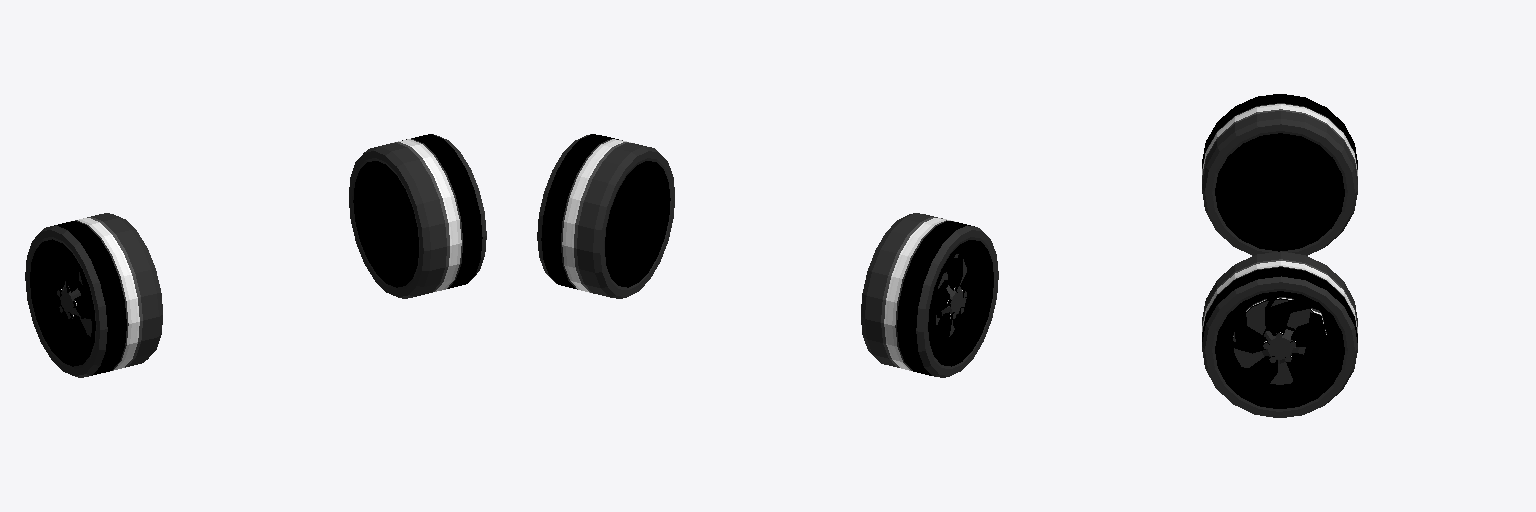
The picture shows the model from 3 angles: view 1: azimuth 30°, elevation 25°; view 2: azimuth 150°, elevation 25°; view 3: azimuth 270°, elevation 25°; orthographic projection.
Visible parts, largest first — view 1: Wheels; view 2: Wheels; view 3: Wheels.
Boxes of the visible parts, <box> form: Wheels: <box>25,134,486,377</box>; Wheels: <box>537,134,998,377</box>; Wheels: <box>1202,94,1357,417</box>.
Size of the model in its own units: 1.98 by 0.6953 by 0.6953.
1 materials, 1 textured.